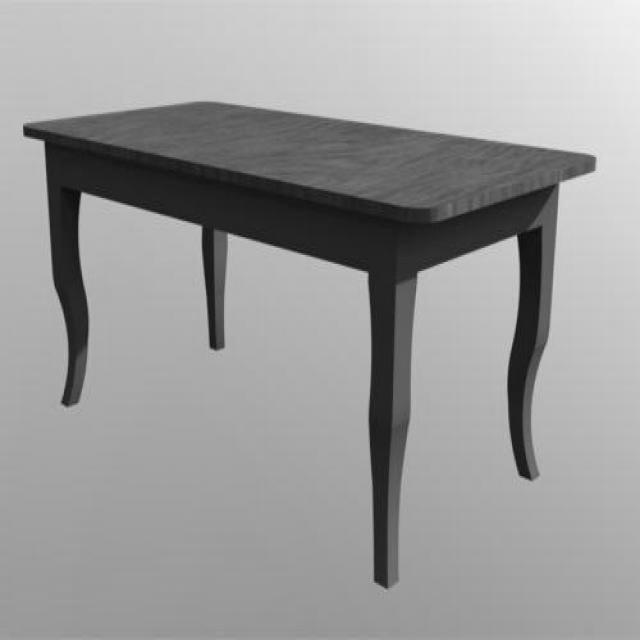table: (22, 97, 596, 590)
